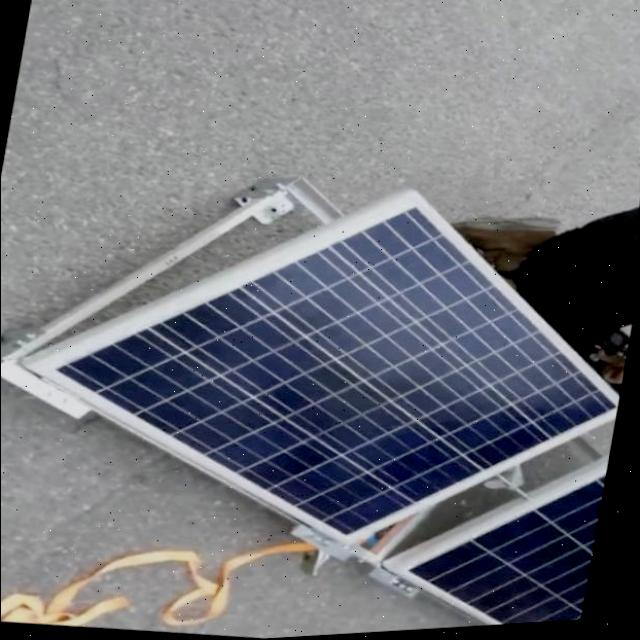Normal Solar Panel: (0, 138, 640, 592), (375, 434, 615, 637)
